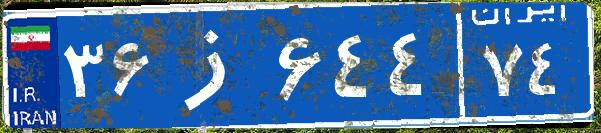3: (57, 26, 110, 107)
4: (385, 28, 445, 110), (330, 28, 385, 110), (525, 38, 570, 115)
6: (273, 28, 330, 110), (110, 28, 158, 105)
7: (475, 38, 525, 113)
ز: (158, 15, 273, 115)
